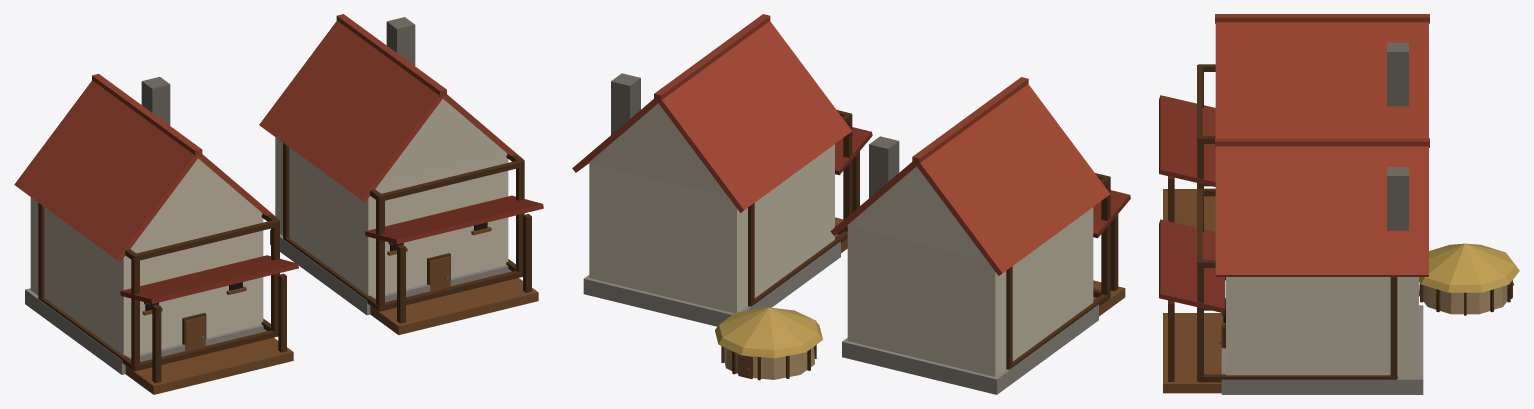
Rendered from human_row.glb.
3 renders of one model, left to right at view 1: azimuth 30°, elevation 25°; view 2: azimuth 150°, elevation 25°; view 3: azimuth 270°, elevation 25°, orthographic. The views are drawn at different scales.
Visible parts, largest first — view 1: human_row; view 2: human_row; view 3: human_row.
Boxes of the visible parts, x1=… form: human_row: x1=14, y1=14, x2=543, y2=394; human_row: x1=572, y1=14, x2=1130, y2=394; human_row: x1=1159, y1=14, x2=1519, y2=394.
Size of the model in its own units: 5.83 by 2.86 by 4.29.
